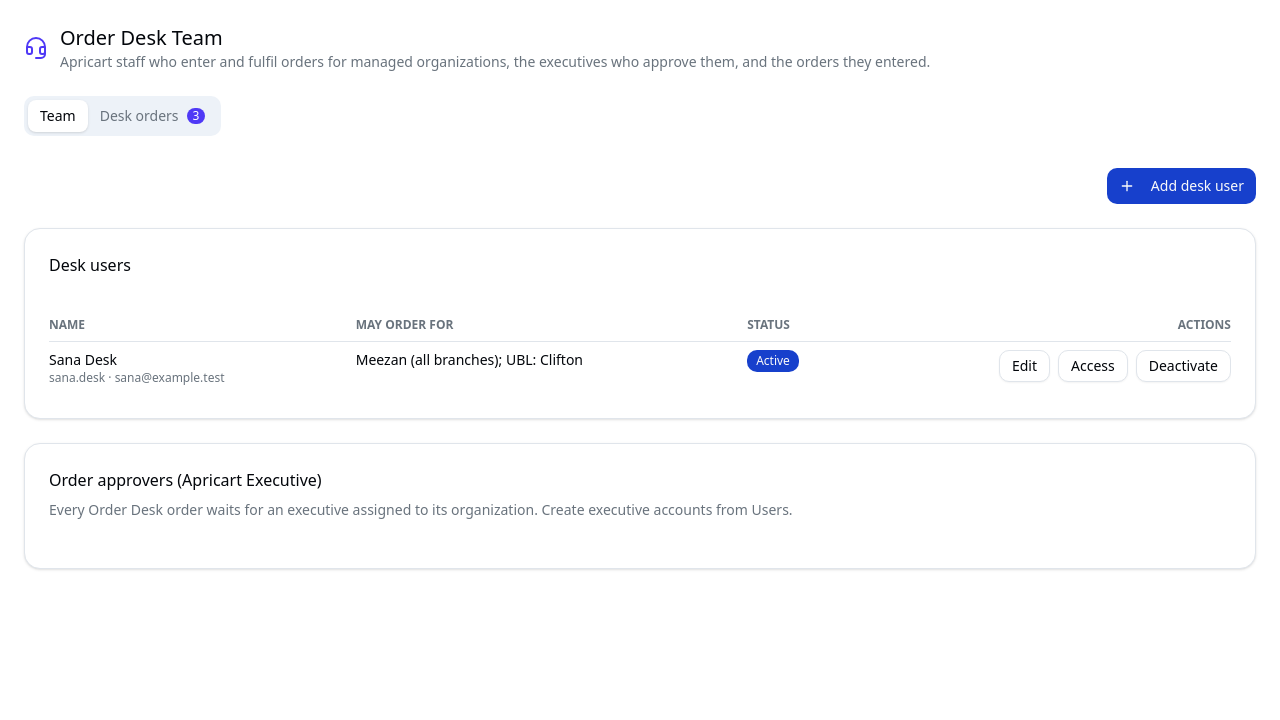
Scenario: Order Desk Team › keeps the dialog open with the server's reason when access is refused
Click the button "Access": (1093,366) [1058,350,1128,382]
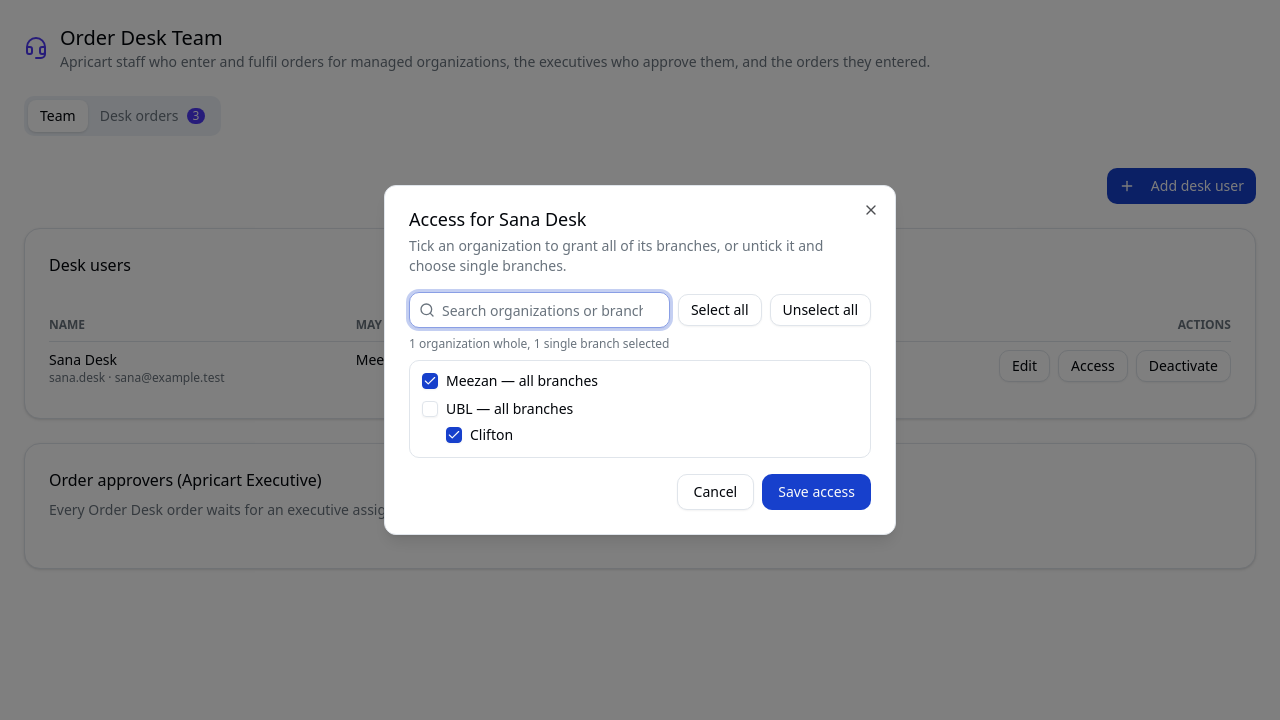
Click the button "Save access": (817,492) [762,474,871,510]
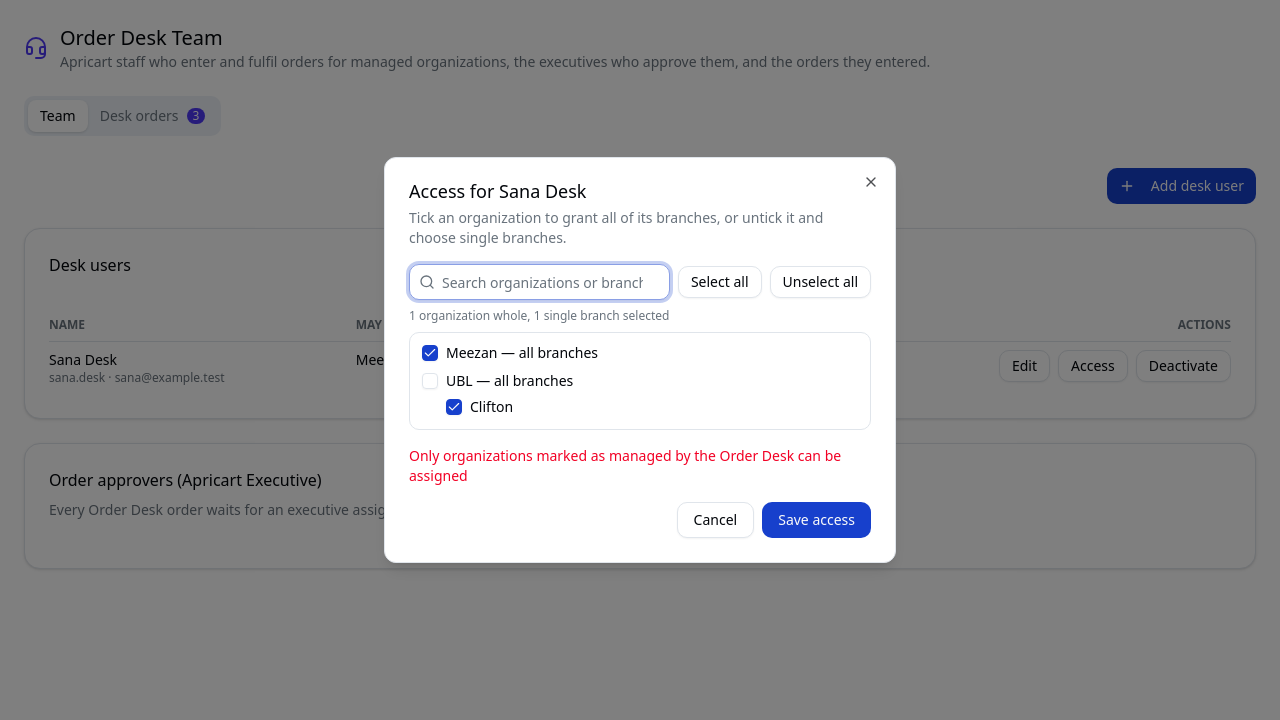
Expected: the dialog is shown, [384,157,896,563]
Expected: the text "Only organizations marked as managed by the Order Desk can be assigned" is shown, [409,446,871,486]
